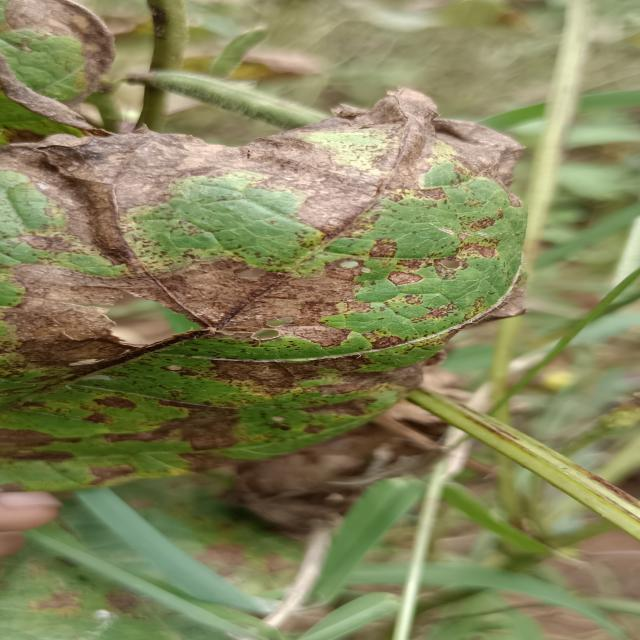Black gram_leaf spot: (0, 72, 534, 497)
